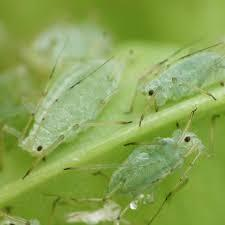Insects: (44, 108, 222, 225), (3, 41, 135, 185), (121, 23, 225, 133)
